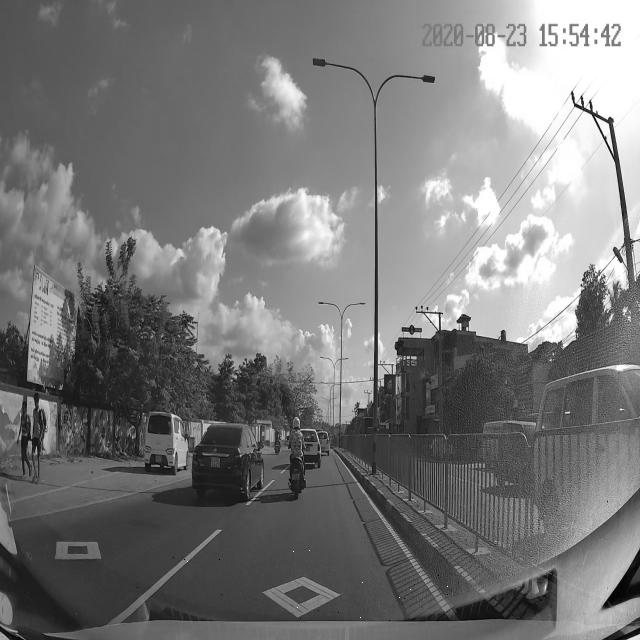diamond: (119, 550, 459, 621)
